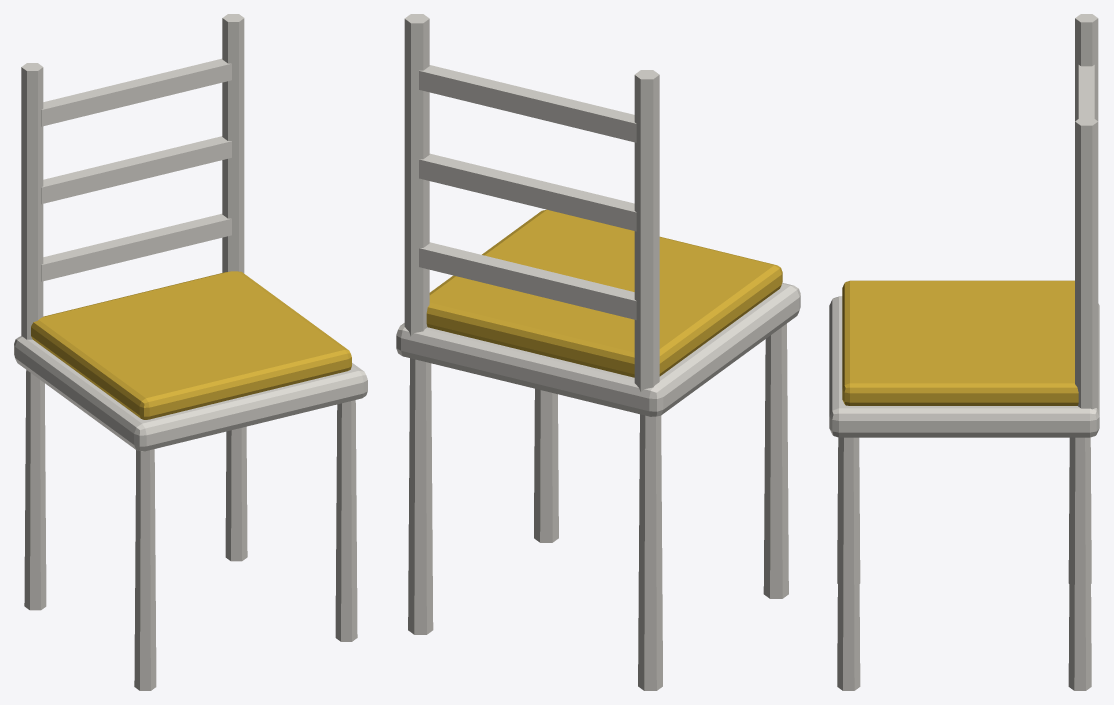
The model's file is foot_chair.glb.
3 renders of one model, left to right at view 1: azimuth 30°, elevation 25°; view 2: azimuth 150°, elevation 25°; view 3: azimuth 270°, elevation 25°, orthographic. The views are drawn at different scales.
Parts seen in each view (by area): view 1: FootChair_body; view 2: FootChair_body; view 3: FootChair_body.
Part boxes in pixels (x1,y1,x2,y2): FootChair_body: (14, 14, 367, 690); FootChair_body: (396, 14, 800, 690); FootChair_body: (829, 14, 1099, 690).
Size of the model in its own units: 0.44 by 0.97 by 0.42.
